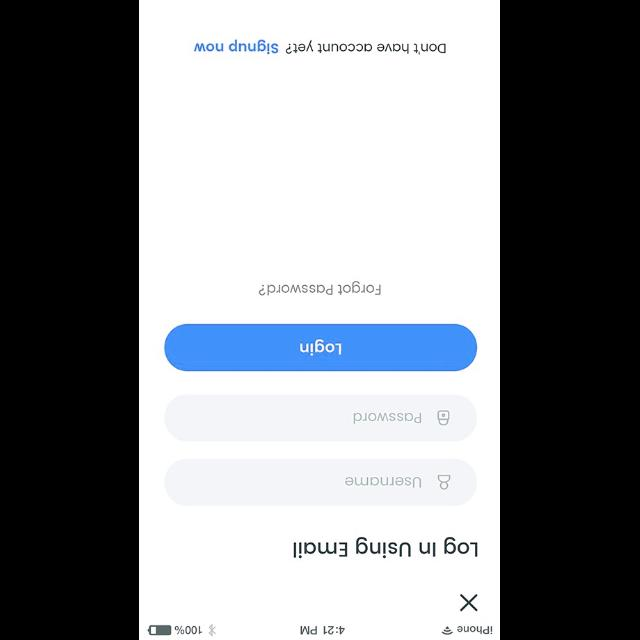icon: (460, 593, 478, 611), (438, 474, 452, 490), (438, 409, 450, 425)
input: (164, 393, 478, 441), (165, 458, 478, 506)
text: (294, 536, 478, 558), (286, 40, 447, 54), (258, 280, 382, 296), (194, 39, 278, 55), (346, 477, 422, 488), (353, 412, 422, 423)
textbutton: (164, 324, 478, 372)
uppertaskbar: (140, 623, 500, 639)
